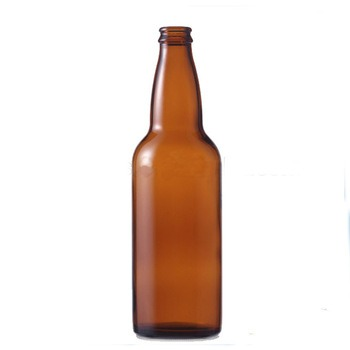container: (126, 21, 228, 342)
